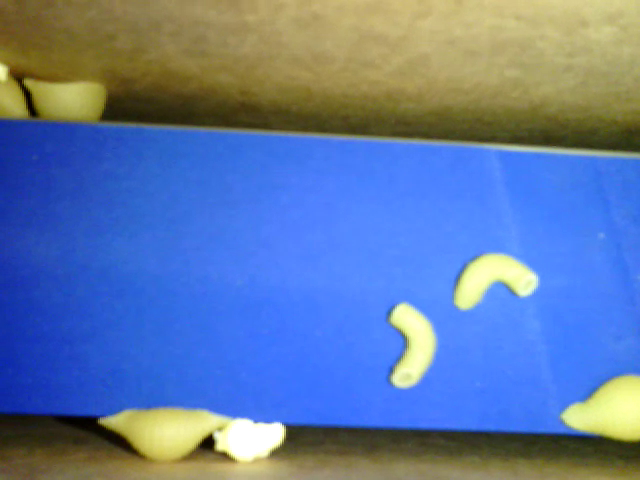elbow: (452, 250, 539, 312), (389, 300, 437, 386)
shell: (97, 407, 231, 461), (558, 370, 638, 443), (22, 78, 108, 125)
